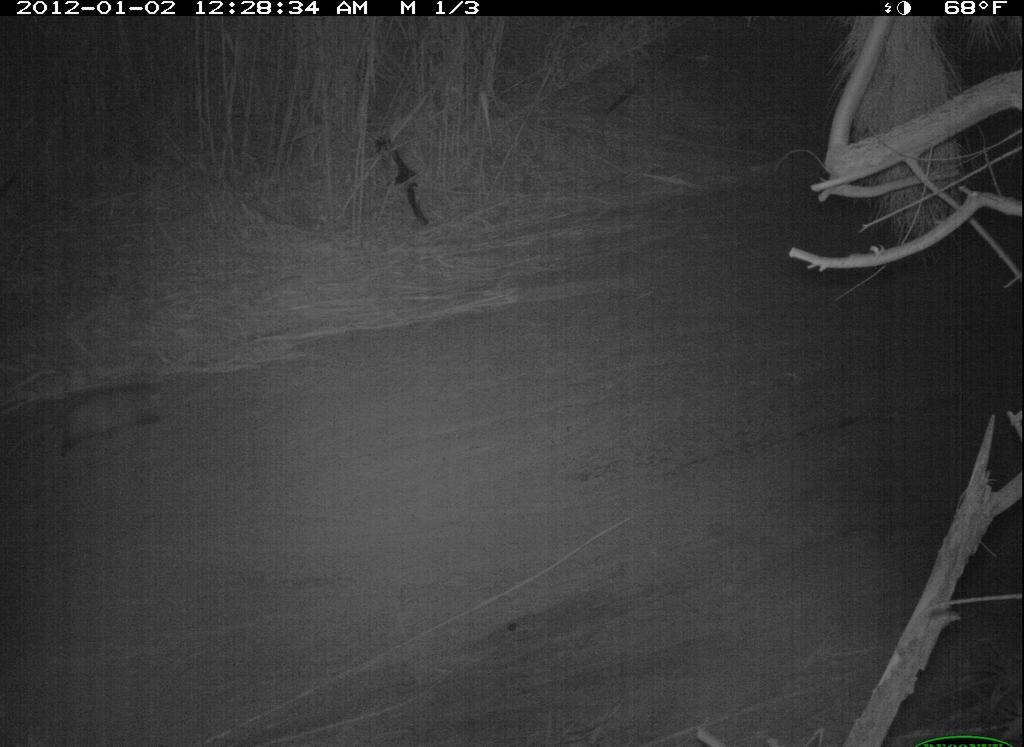opossum: (49, 381, 178, 469)
